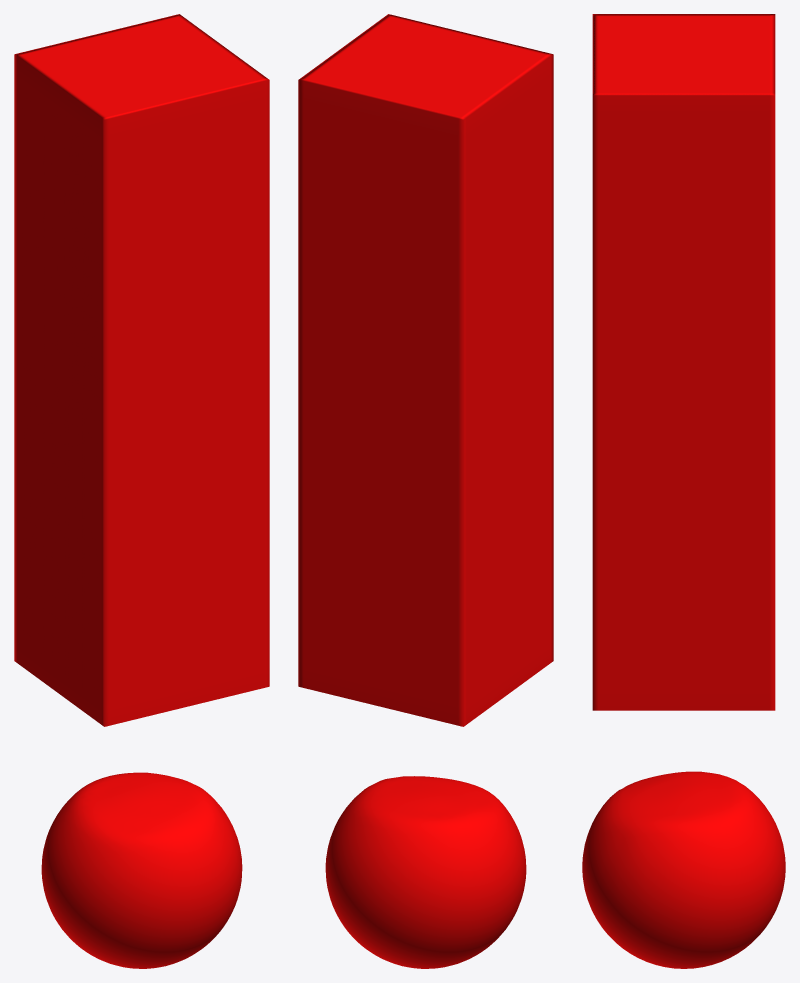
File: warning.fbx
3 views of the same model, side by side, from view 1: azimuth 30°, elevation 25°; view 2: azimuth 150°, elevation 25°; view 3: azimuth 270°, elevation 25° (orthographic).
Parts seen in each view (by area): view 1: cube, sphere; view 2: cube, sphere; view 3: cube, sphere.
Boxes of the visible parts, x1,y1,x2,y2 form: cube: (14, 14, 269, 726); sphere: (41, 772, 242, 968); cube: (298, 14, 553, 726); sphere: (325, 776, 526, 968); cube: (592, 14, 775, 710); sphere: (582, 771, 785, 968).
Bounding box in the file's own units: 69.7 × 342 × 69.7.
